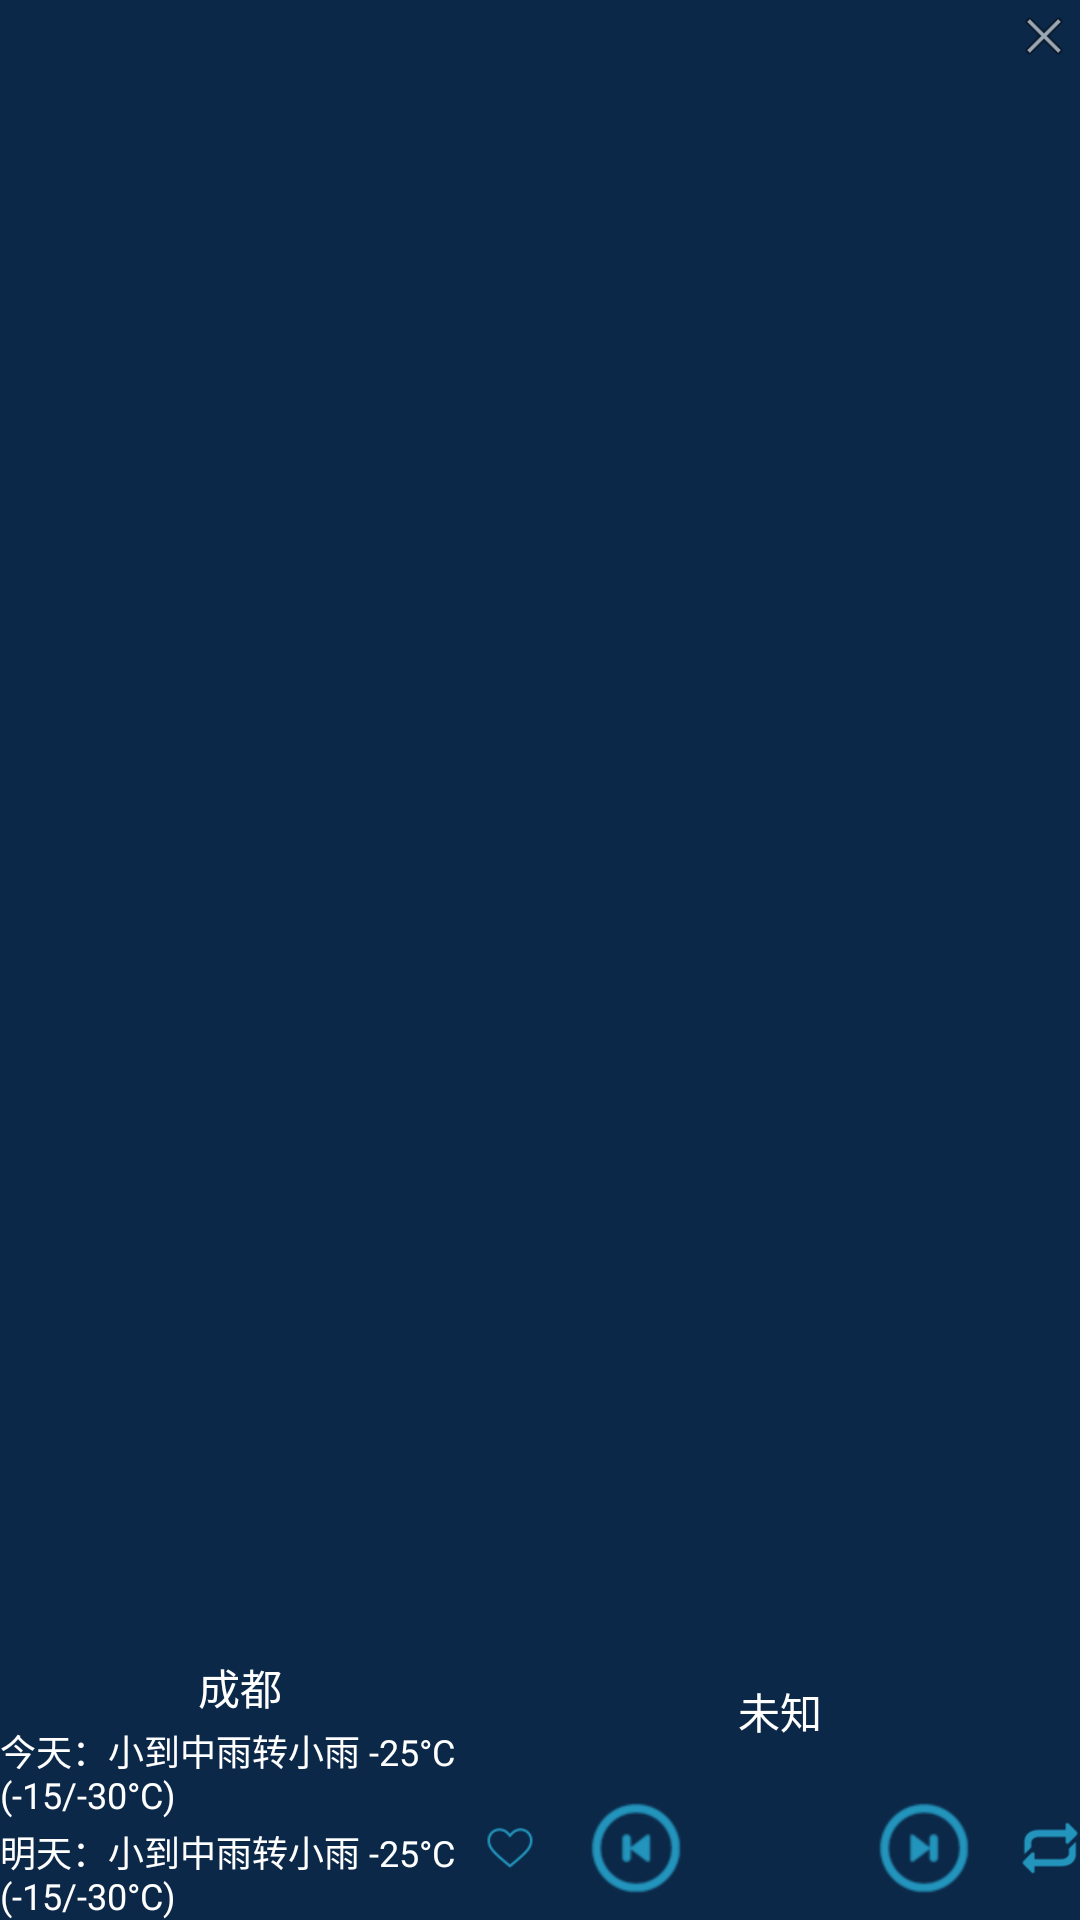

Where to tap for icons on this 1080w x 1920h app screen, as [x,y]:
close clear cancel: [1044,36]
favorite: [510,1848]
next: [924,1848]
order: [1050,1848]
previous: [636,1848]
